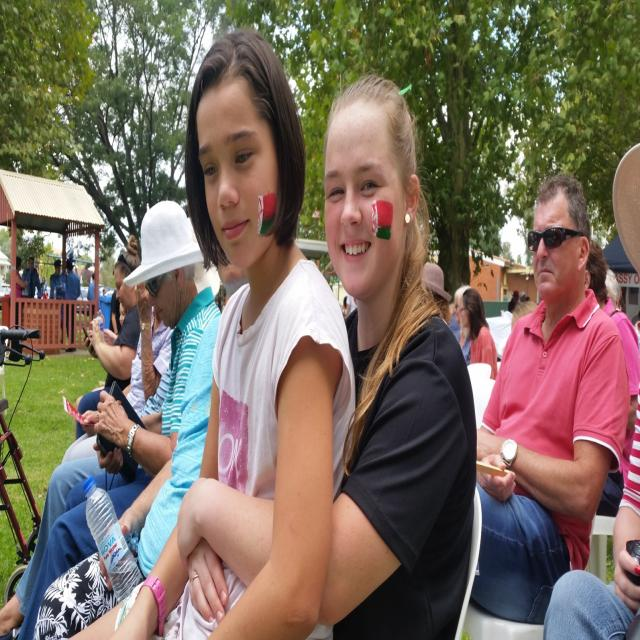body: (65, 25, 359, 640), (174, 74, 480, 639), (17, 196, 221, 640), (32, 237, 254, 640), (465, 168, 628, 628), (542, 318, 640, 640), (73, 232, 143, 442), (588, 134, 640, 321), (128, 283, 174, 423), (421, 255, 471, 362), (458, 287, 499, 387), (190, 211, 222, 310), (0, 552, 31, 638), (61, 258, 81, 353), (58, 425, 102, 461), (505, 284, 535, 334), (49, 258, 65, 329), (15, 256, 28, 330), (21, 256, 42, 300), (109, 284, 126, 335), (87, 271, 101, 321), (59, 267, 68, 329), (102, 286, 107, 298)
